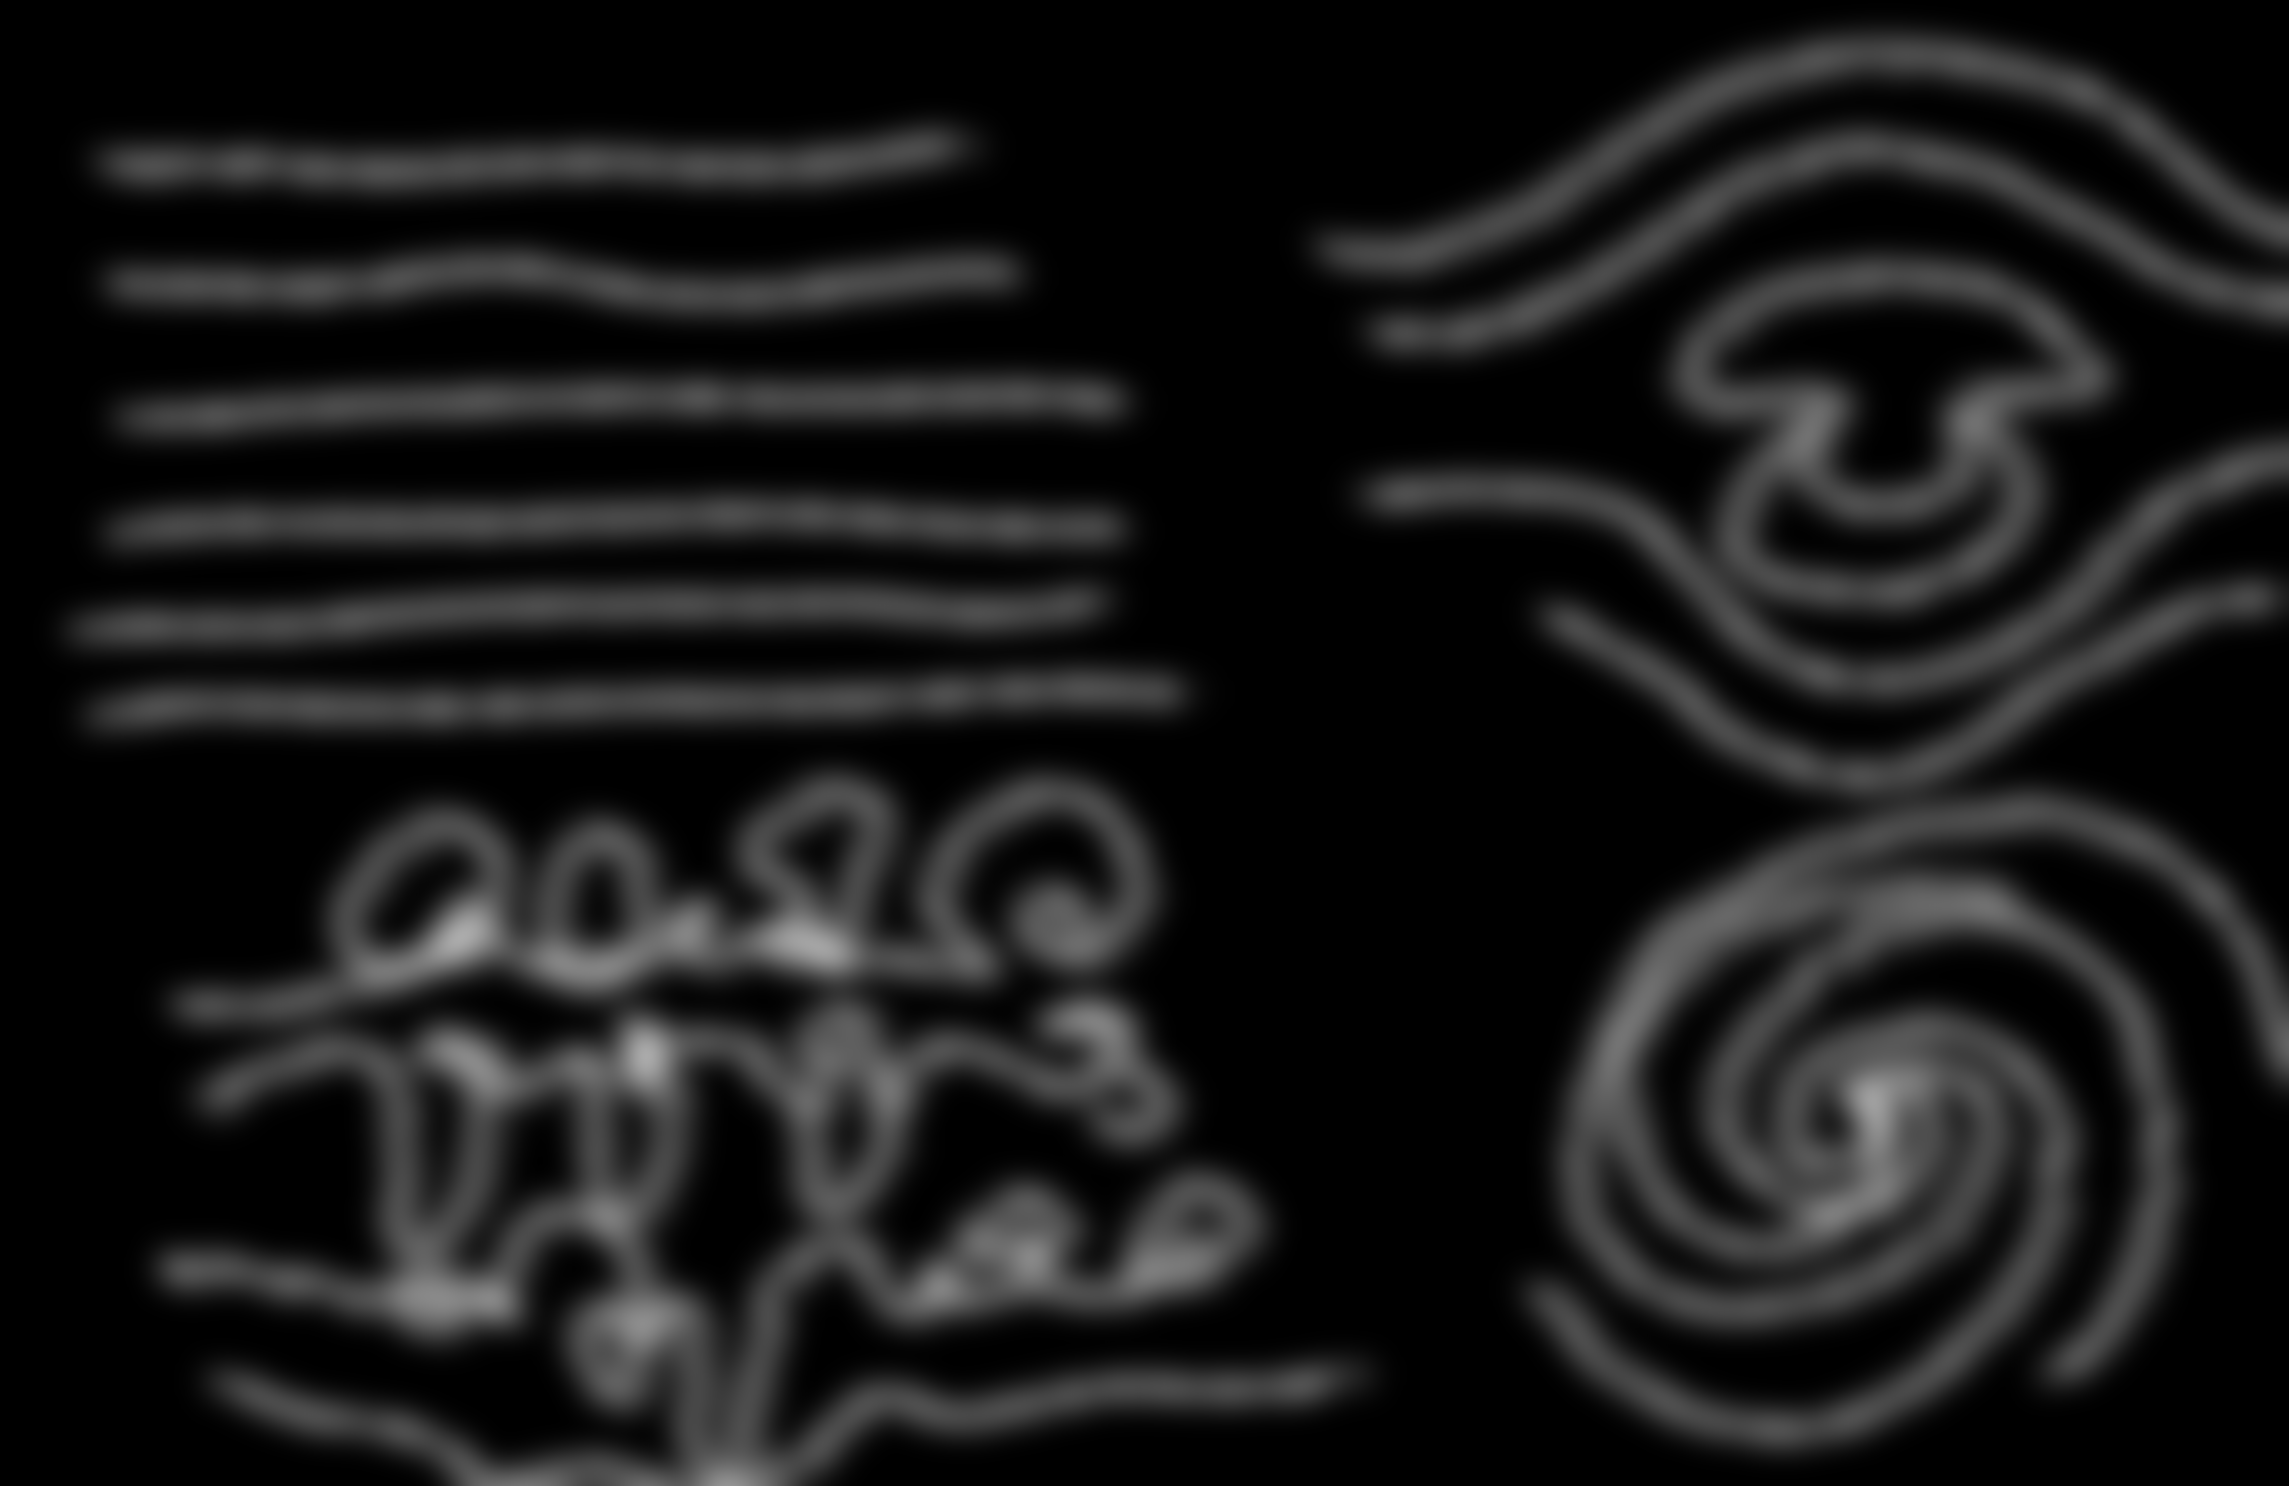Laminar flow: (87, 57, 1230, 752)
Transition flow: (1308, 28, 2289, 797)
turbulence: (93, 766, 1376, 1479)
vortex: (1498, 806, 2257, 1434)
